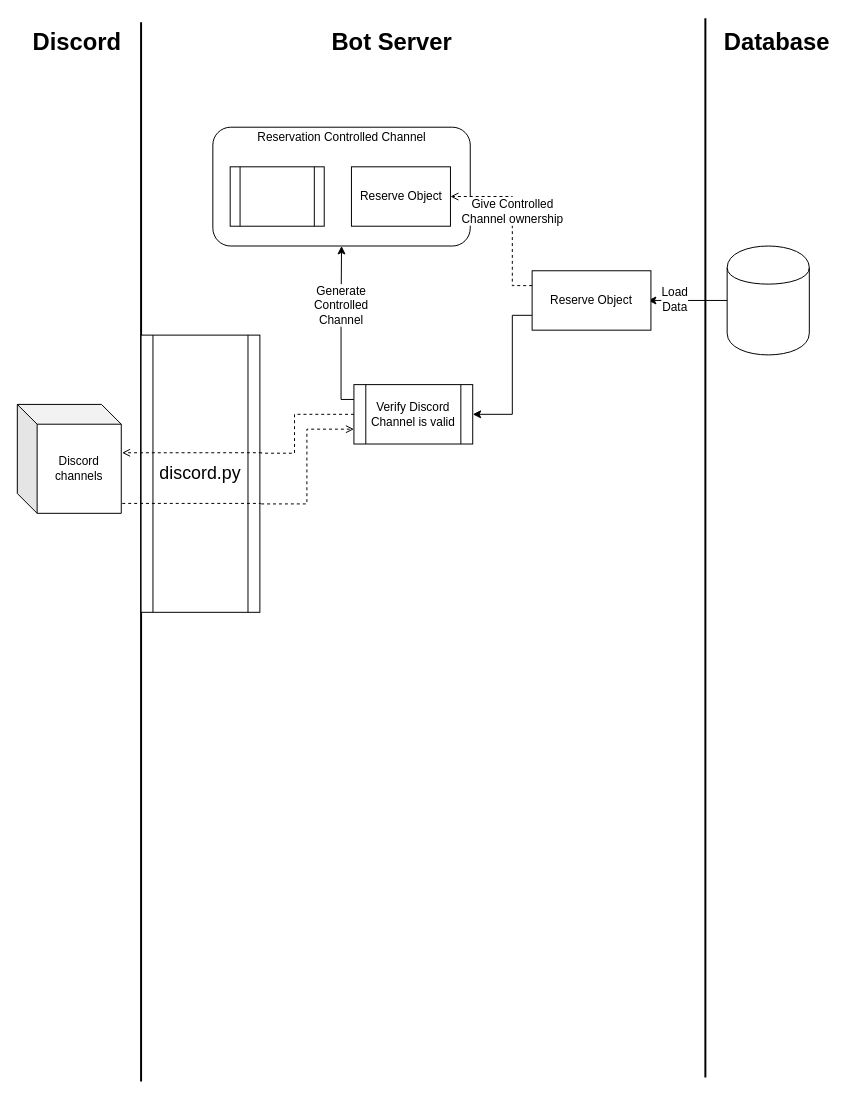
The diagram is 846 pixels wide and 1099 high, and some of its shapes have lost their labels. The centre of each missing label's shape, as x and y in pixels:
"Register Controlled Channel for command handler" belongs at [276,196].
"Reserves Dabase" belongs at [767,300].
